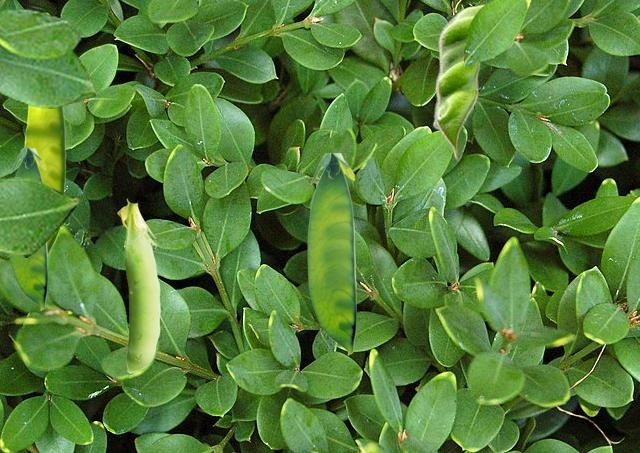pea: (307, 153, 355, 354), (432, 4, 483, 160), (117, 198, 159, 372), (24, 107, 65, 256), (9, 148, 46, 309)
